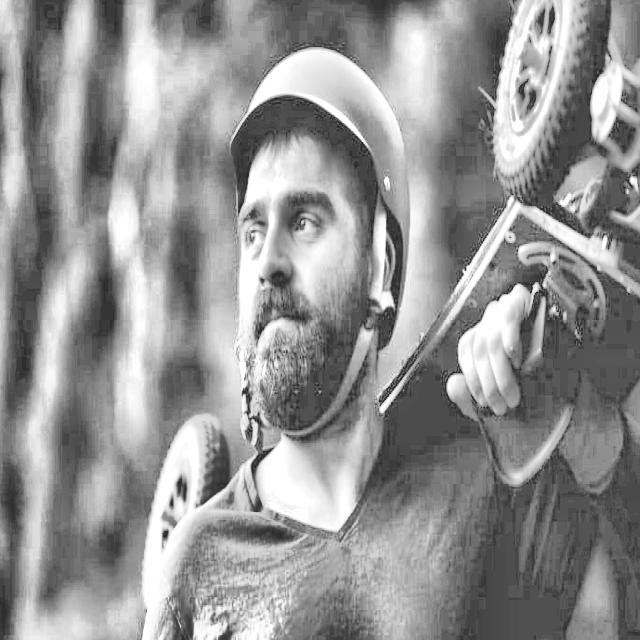Helmet: (215, 37, 416, 507)
